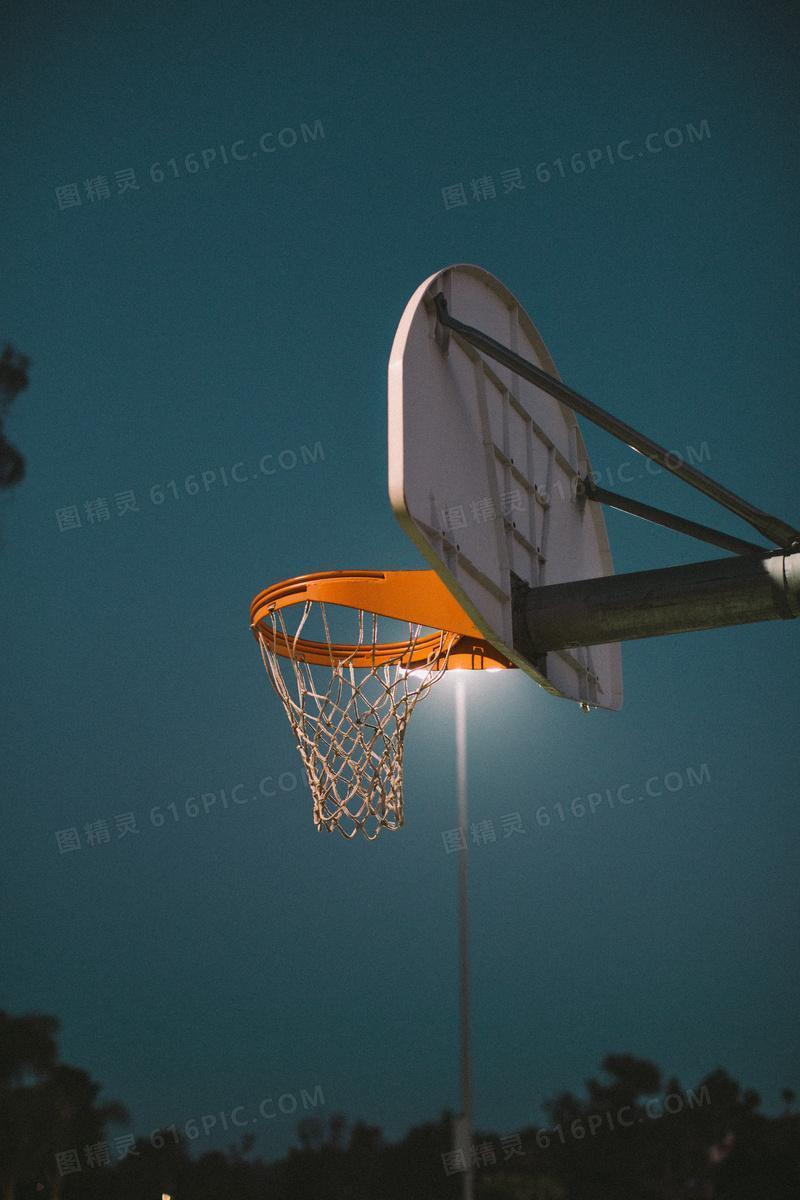rim: (249, 568, 457, 843)
